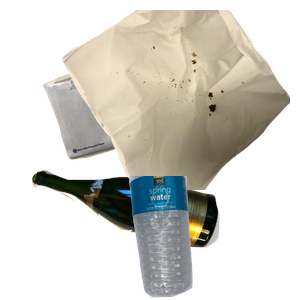glass: (29, 167, 241, 300)
paper: (40, 35, 249, 187)
plastic: (127, 176, 300, 300)
trash: (60, 10, 300, 190)
